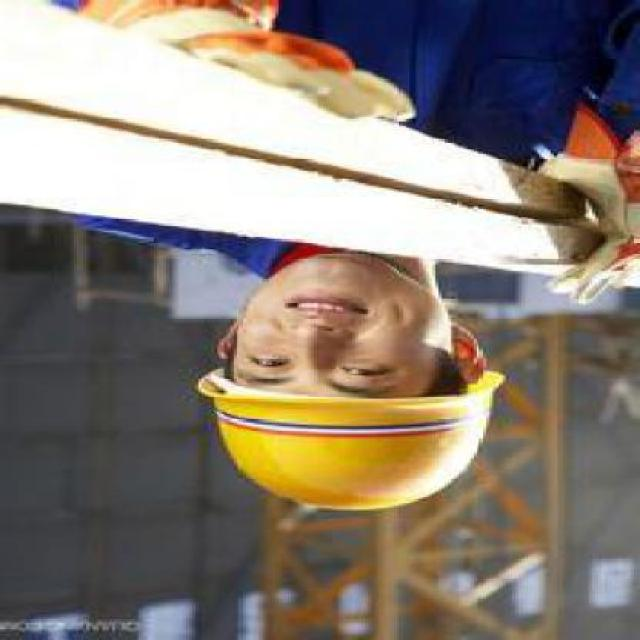safetyhelmet: (192, 281, 502, 516)
